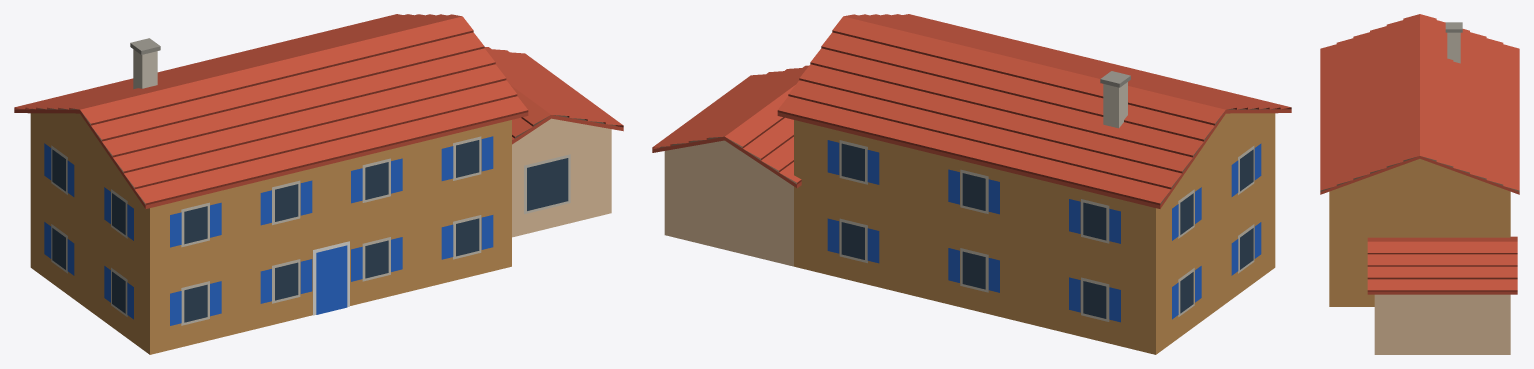
File: mas_provencal.glb
3 views of the same model, side by side, from view 1: azimuth 30°, elevation 25°; view 2: azimuth 150°, elevation 25°; view 3: azimuth 270°, elevation 25° (orthographic). The views are drawn at different scales.
Visible parts, largest first — view 1: mas_provencal; view 2: mas_provencal; view 3: mas_provencal.
Boxes of the visible parts, x1,y1,x2,y2 form: mas_provencal: (14, 14, 623, 354); mas_provencal: (652, 14, 1291, 354); mas_provencal: (1320, 14, 1519, 354).
Bounding box in the file's own units: 19.7 × 8.55 × 8.8.
1 material, 1 textured.
